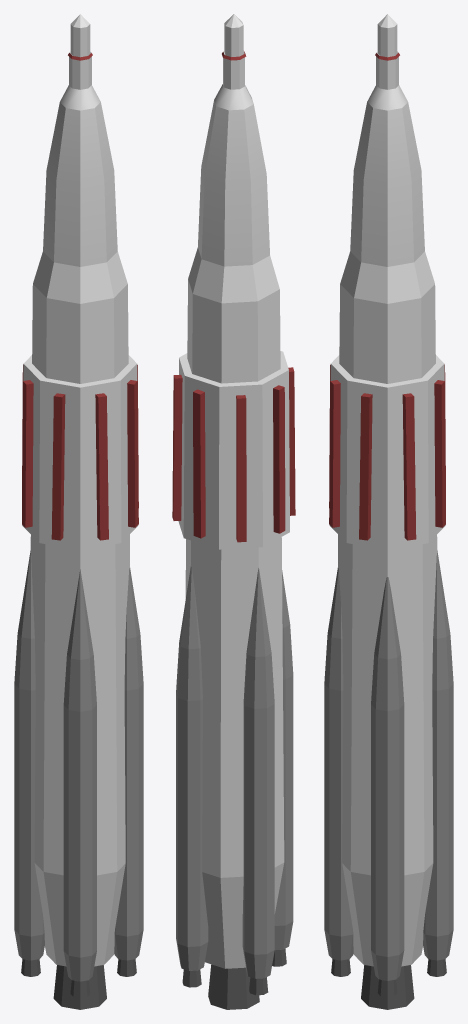
The model's file is NuclearBomb.fbx.
3 renders of one model, left to right at view 1: azimuth 90°, elevation 25°; view 2: azimuth 210°, elevation 25°; view 3: azimuth 270°, elevation 25°, orthographic.
Parts seen in each view (by area): view 1: nuclear_bomb_combined; view 2: nuclear_bomb_combined; view 3: nuclear_bomb_combined.
Part boxes in pixels (left/top/right/bottom): nuclear_bomb_combined: left=14, top=14, right=143, bottom=1009; nuclear_bomb_combined: left=172, top=14, right=295, bottom=1009; nuclear_bomb_combined: left=324, top=14, right=453, bottom=1009.
Size of the model in its own units: 311 by 2565 by 305.
